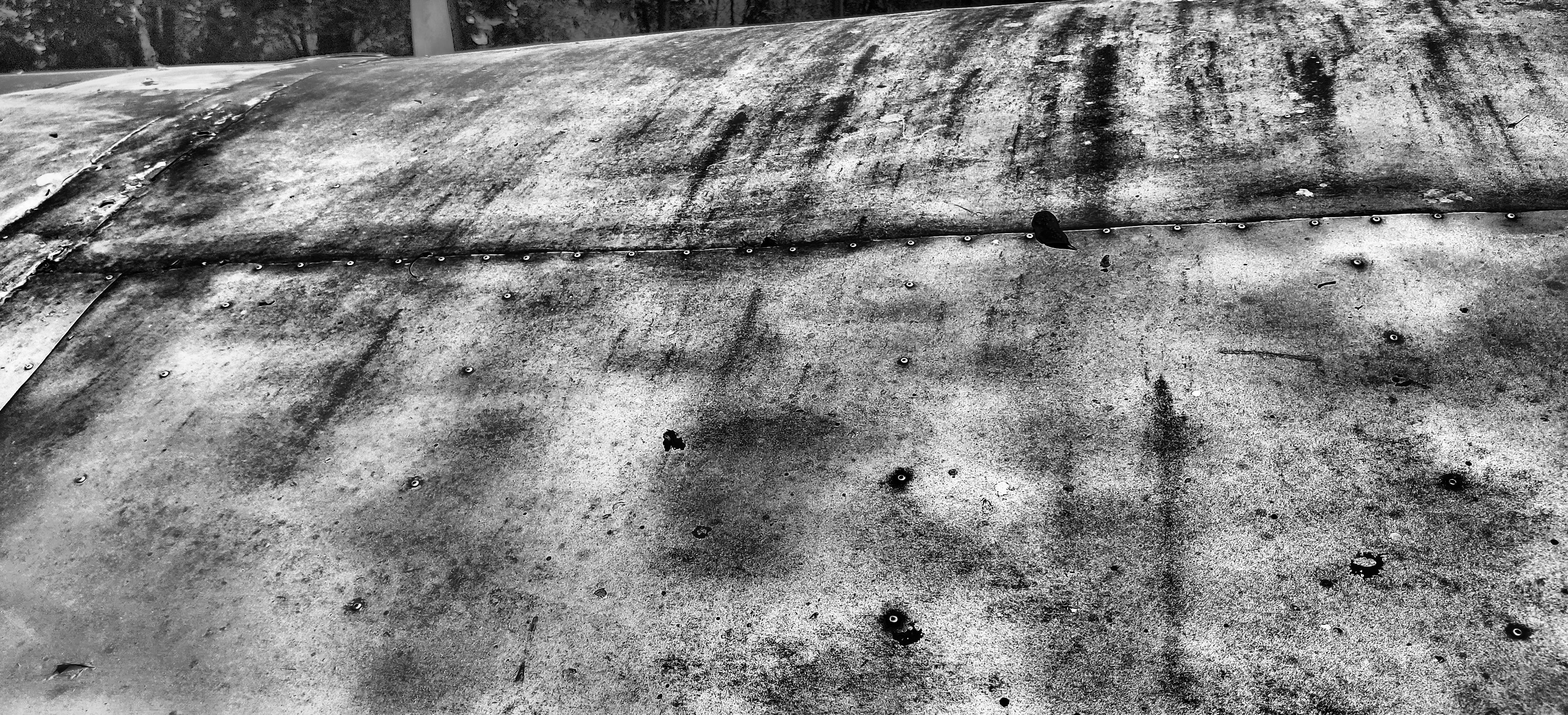missing-head: (100, 200, 114, 209), (197, 130, 209, 136), (274, 83, 282, 88)
paint-peel-off: (31, 245, 71, 277), (53, 659, 94, 677)
